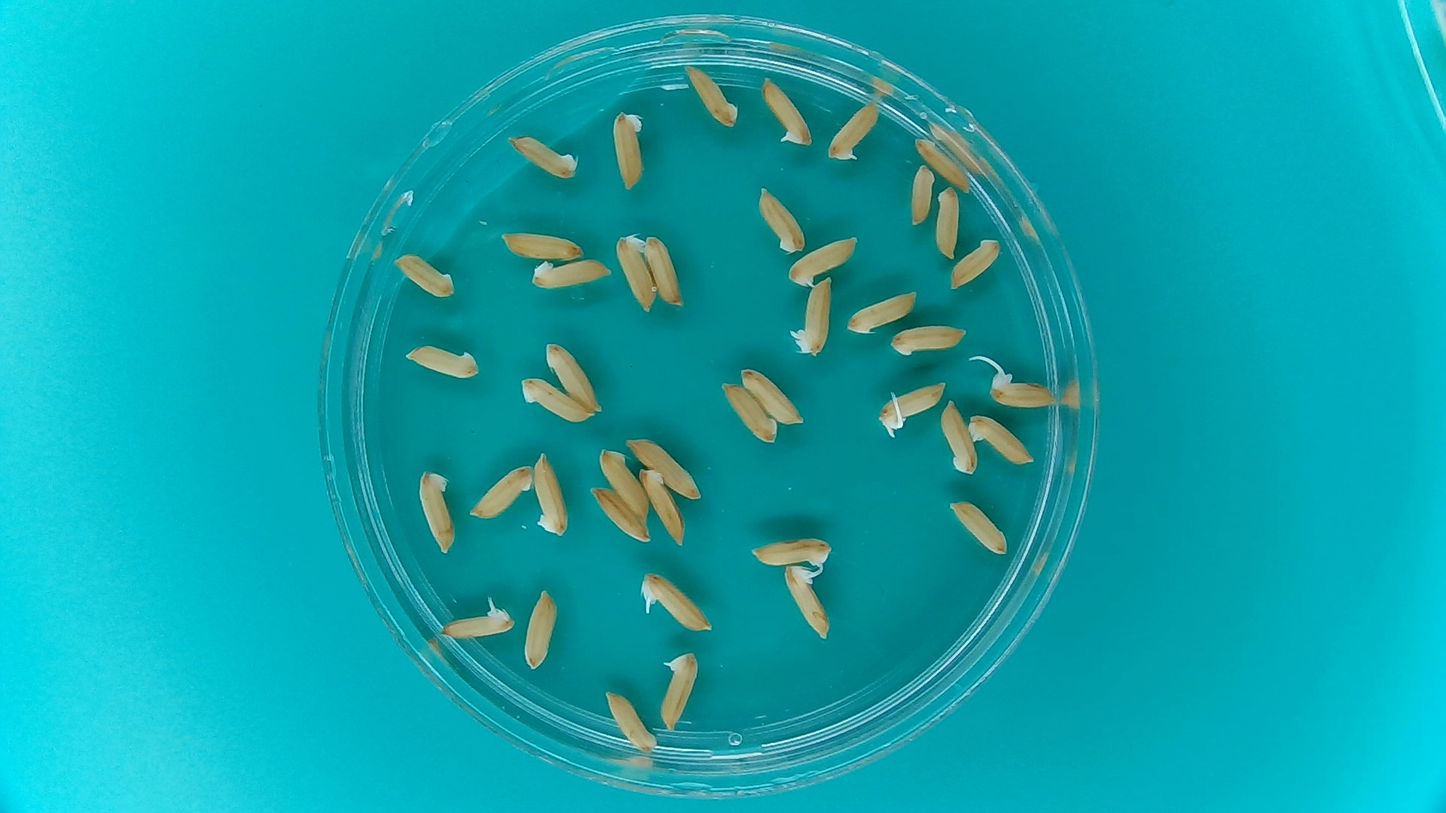no: (624, 434, 704, 501), (544, 339, 603, 414), (944, 495, 1010, 558), (585, 483, 652, 545), (739, 364, 806, 426), (638, 463, 687, 547), (466, 462, 534, 522), (516, 373, 596, 424), (718, 379, 778, 445), (597, 445, 649, 520), (683, 62, 741, 129), (966, 412, 1036, 467), (612, 231, 657, 316), (507, 131, 581, 181), (788, 233, 859, 285), (935, 401, 981, 481), (416, 469, 458, 556), (602, 688, 657, 753), (756, 184, 807, 254), (912, 135, 973, 193), (844, 288, 919, 334), (520, 586, 559, 673), (532, 449, 570, 538), (401, 340, 481, 381), (643, 233, 685, 311), (747, 534, 834, 571), (392, 251, 457, 300), (498, 227, 586, 263), (527, 255, 615, 291), (947, 234, 1002, 291), (612, 108, 648, 192), (889, 321, 969, 357), (932, 185, 961, 263), (907, 162, 936, 228)
yes: (636, 570, 716, 634), (779, 562, 834, 643), (876, 379, 949, 437), (759, 73, 813, 146), (789, 273, 834, 358), (438, 594, 516, 640), (657, 650, 700, 732), (825, 98, 880, 162), (989, 364, 1051, 415)
